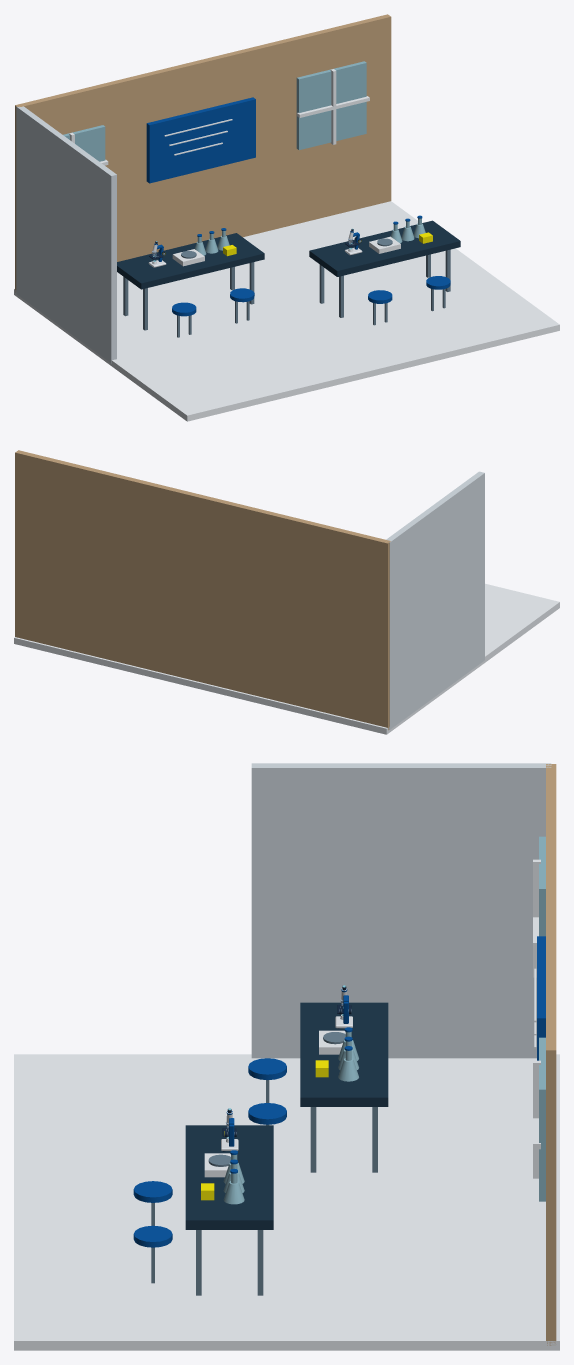
The model's file is classroom.glb.
3 views of the same model, one above another, from view 1: azimuth 30°, elevation 25°; view 2: azimuth 150°, elevation 25°; view 3: azimuth 270°, elevation 25° (orthographic). The views are drawn at different scales.
Visible parts, largest first — view 1: Floor, RearWall, SideWall, Worktop (×2), Board, Window (×2); view 2: RearWall, SideWall, Floor; view 3: Floor, SideWall, Worktop (×2), RearWall, Stool (×4), Window, Board.
Part boxes in pixels (x1=…): Floor: x1=14, y1=201, x2=559, y2=421; RearWall: x1=15, y1=14, x2=391, y2=292; SideWall: x1=16, y1=106, x2=116, y2=363; Worktop (×2): x1=117, y1=220, x2=460, y2=289; Board: x1=146, y1=97, x2=255, y2=183; Window (×2): x1=63, y1=61, x2=366, y2=161; RearWall: x1=15, y1=450, x2=390, y2=730; SideWall: x1=386, y1=471, x2=484, y2=729; Floor: x1=14, y1=583, x2=559, y2=734; Floor: x1=14, y1=1054, x2=559, y2=1350; SideWall: x1=251, y1=763, x2=551, y2=1058; Worktop (×2): x1=185, y1=1002, x2=388, y2=1229; RearWall: x1=546, y1=764, x2=556, y2=1345; Stool (×4): x1=133, y1=1058, x2=286, y2=1247; Window: x1=539, y1=1037, x2=545, y2=1201; Board: x1=537, y1=936, x2=545, y2=1060.
Size of the model in its own units: 7.71 by 3.76 by 6.2.
